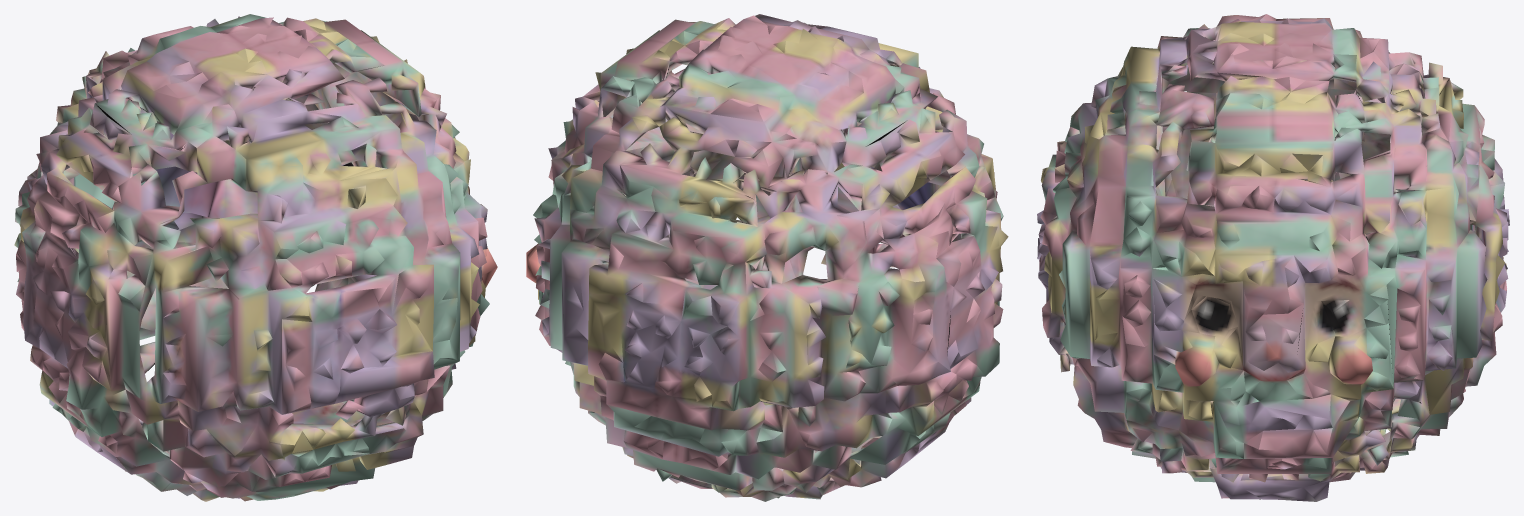
3 renders of one model, left to right at view 1: azimuth 30°, elevation 25°; view 2: azimuth 150°, elevation 25°; view 3: azimuth 270°, elevation 25°, orthographic.
Parts seen in each view (by area): view 1: repaired; view 2: repaired; view 3: repaired.
Part boxes in pixels (x1=…): repaired: x1=14, y1=14, x2=497, y2=501; repaired: x1=526, y1=14, x2=1008, y2=501; repaired: x1=1037, y1=14, x2=1509, y2=501.
Size of the model in its own units: 1 by 1.01 by 1.
Materials: 1 (1 with a texture image).
